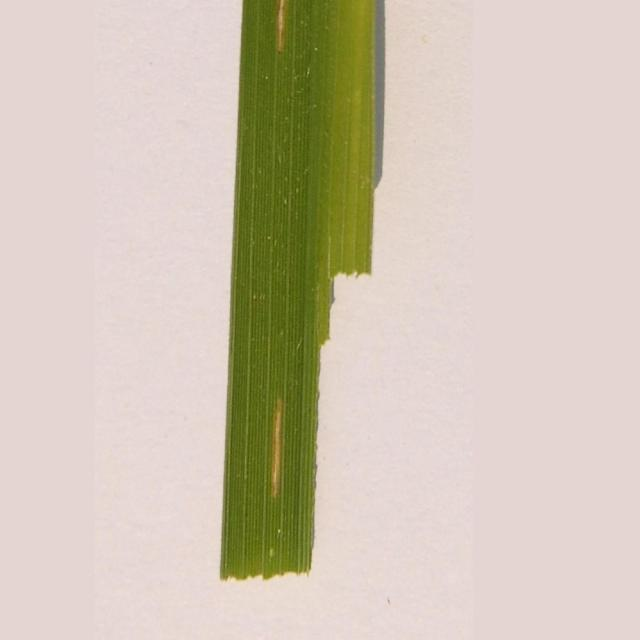Bacterial leaf blight: (172, 0, 394, 577)
